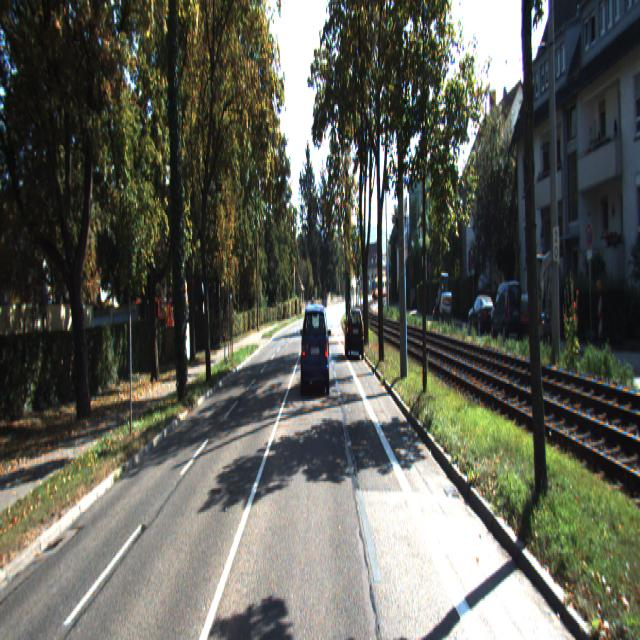Car: (300, 301, 331, 399), (520, 251, 548, 343), (491, 278, 526, 342), (468, 294, 498, 336), (345, 306, 365, 359), (439, 273, 451, 323)
